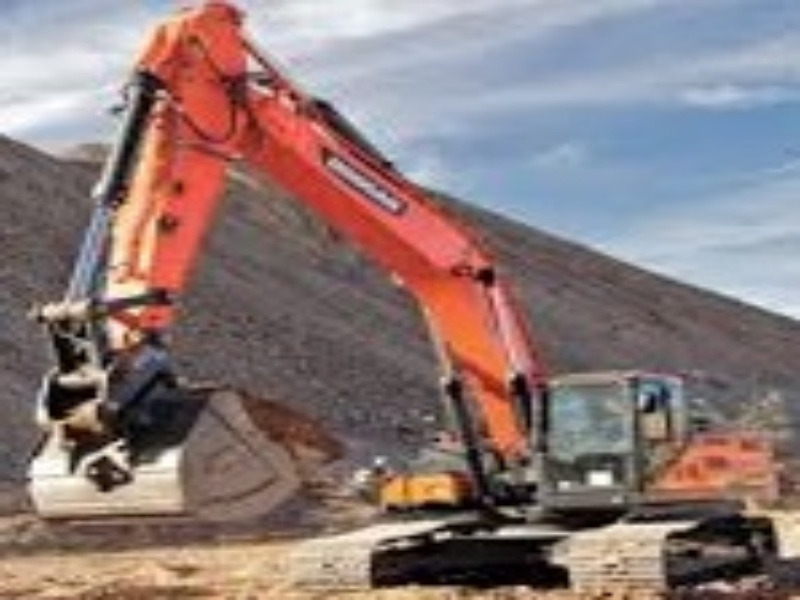wajueji: (334, 283, 788, 600)
